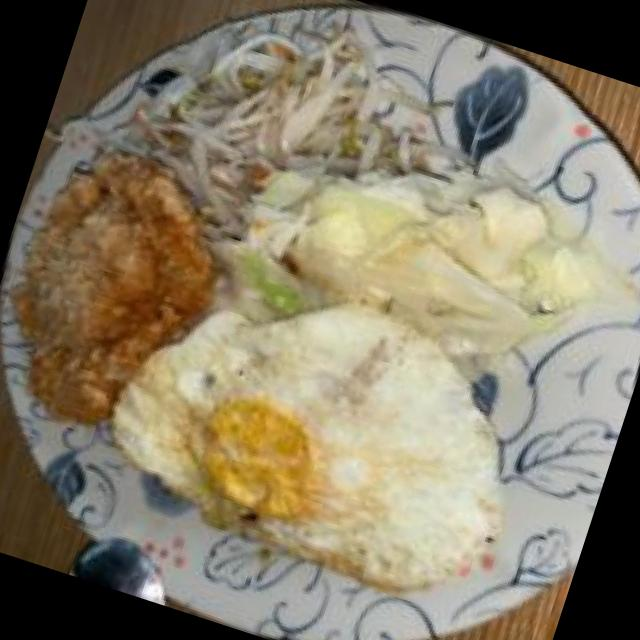chinese_cabbage: (212, 86, 640, 424)
fried_chicken: (0, 116, 257, 467)
fried_eggs: (66, 223, 578, 640)
mung_bean_sprouts: (129, 0, 399, 210)
